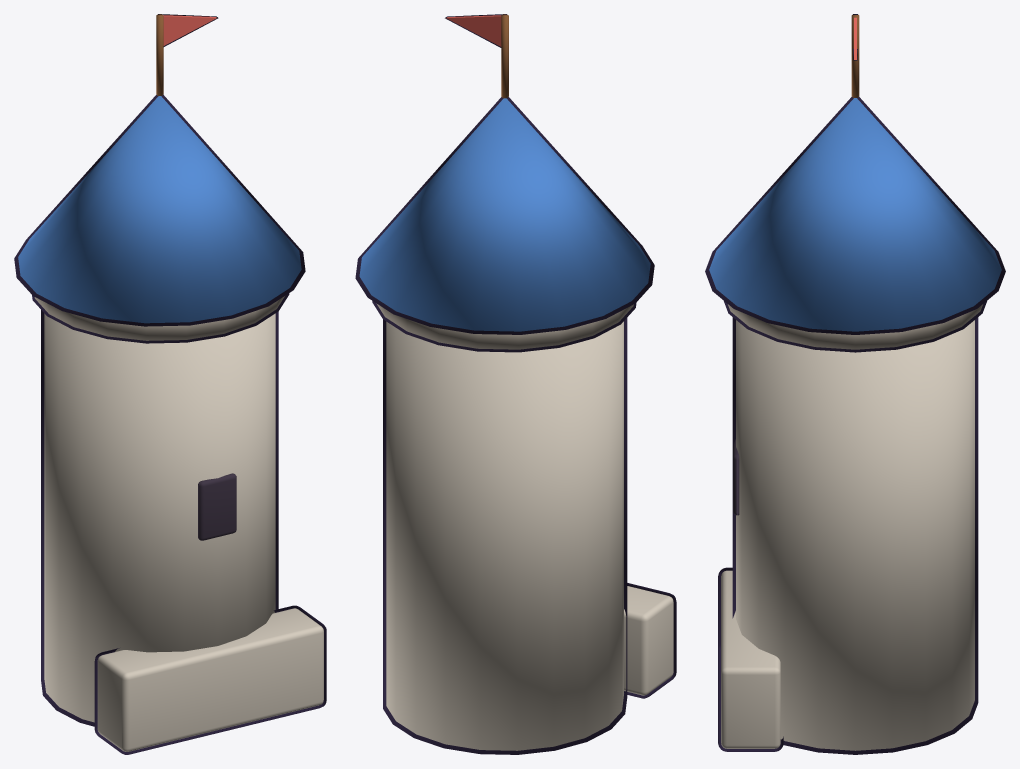
File: castle_1.glb
3 renders of one model, left to right at view 1: azimuth 30°, elevation 25°; view 2: azimuth 150°, elevation 25°; view 3: azimuth 270°, elevation 25°, orthographic. The views are drawn at different scales.
Visible parts, largest first — view 1: tower, spire, box.001, rim, box, shape, pole; view 2: tower, spire, box.001, rim, shape, pole; view 3: tower, spire, box.001, rim, pole.
Part boxes in pixels (x1,y1,x2,y2): tower: (41,310,278,726); spire: (14,95,305,326); box.001: (94,605,326,754); rim: (32,293,289,343); box: (198,473,236,540); shape: (158,14,218,47); pole: (156,14,163,95); tower: (383,318,627,754); spire: (355,97,654,334); box.001: (624,583,676,698); rim: (372,301,636,352); shape: (445,14,506,47); pole: (501,14,508,98); tower: (732,317,978,754); spire: (705,97,1005,334); box.001: (718,567,783,751); rim: (724,301,986,352); pole: (851,14,859,97).
Size of the model in its own units: 2.01 by 5.1 by 2.01.
